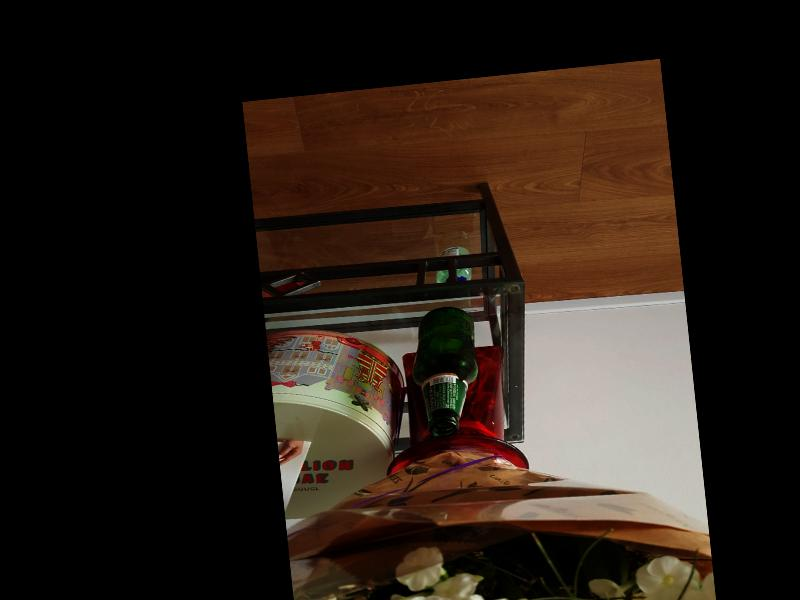Beer: (405, 303, 485, 438)
